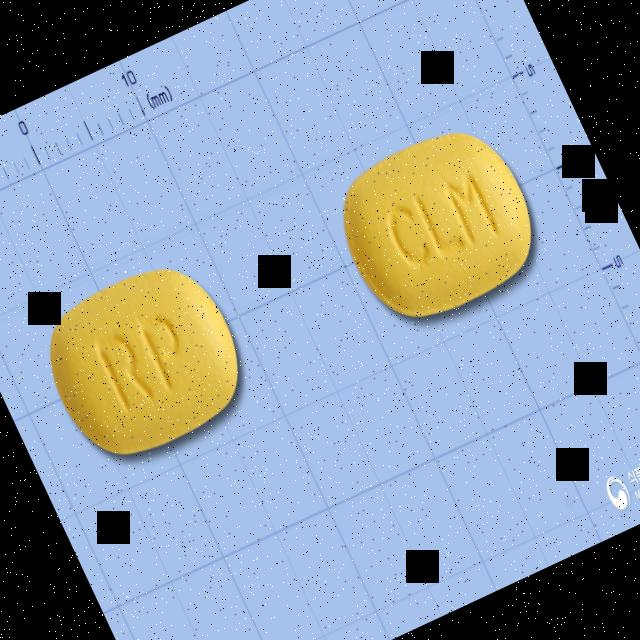Rpclari Tab: (318, 109, 556, 338), (27, 245, 262, 474)
